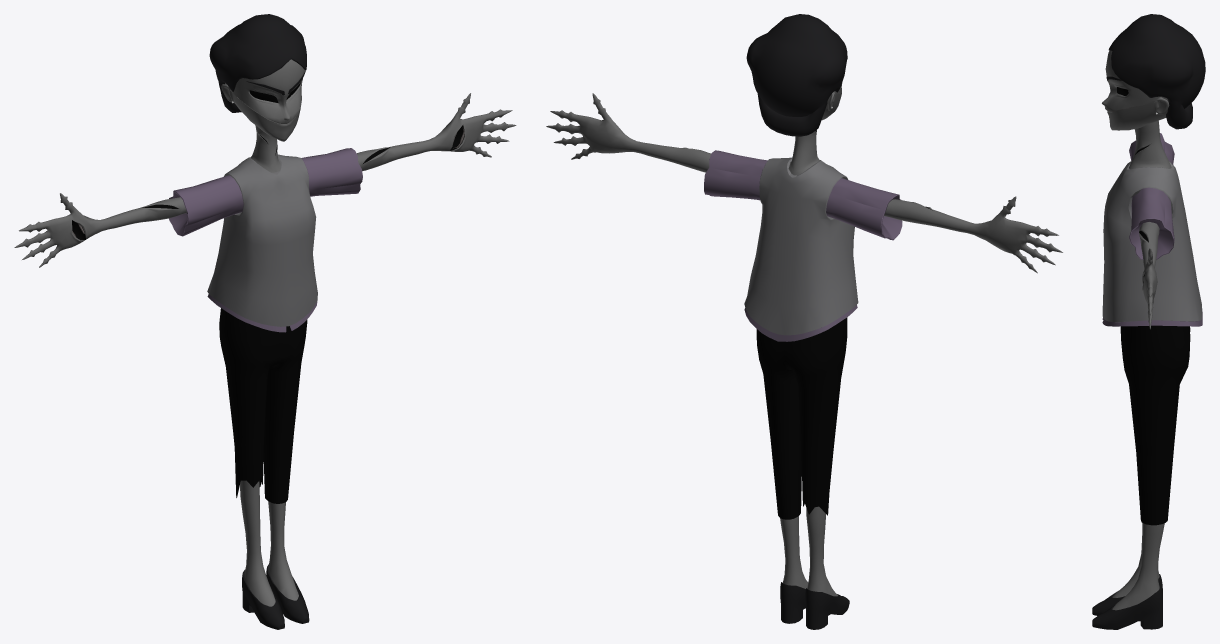
File: Mother X.fbx
The picture shows the model from 3 angles, left to right: view 1: azimuth 30°, elevation 25°; view 2: azimuth 150°, elevation 25°; view 3: azimuth 270°, elevation 25°; orthographic projection. The views are drawn at different scales.
Visible parts, largest first — view 1: clothing, body, pants, clothing_sleeve, hair, face, shoe_R, shoe_L; view 2: clothing, pants, body, hair, clothing_sleeve, shoe_R, shoe_L; view 3: clothing, pants, hair, body, clothing_sleeve, face, shoe_L, shoe_R.
Part boxes in pixels (x1,y1,x2,y2): clothing: (207,154,317,326); body: (14,93,516,606); pants: (219,308,307,503); clothing_sleeve: (169,148,362,332); hair: (209,14,306,112); face: (221,59,304,141); shoe_R: (242,570,284,629); shoe_L: (266,564,309,623); clothing: (744,157,858,335); pants: (756,317,847,519); body: (546,93,1062,596); hair: (746,14,847,136); clothing_sleeve: (704,150,902,341); shoe_R: (805,588,849,629); shoe_L: (780,582,805,623); clothing: (1102,161,1202,322); pants: (1120,325,1190,525); hair: (1108,14,1205,129); body: (1112,120,1171,610); clothing_sleeve: (1102,133,1202,326); face: (1102,50,1169,130); shoe_L: (1092,586,1162,629); shoe_R: (1092,574,1162,615).
Size of the model in its own units: 225 by 252 by 42.97.
